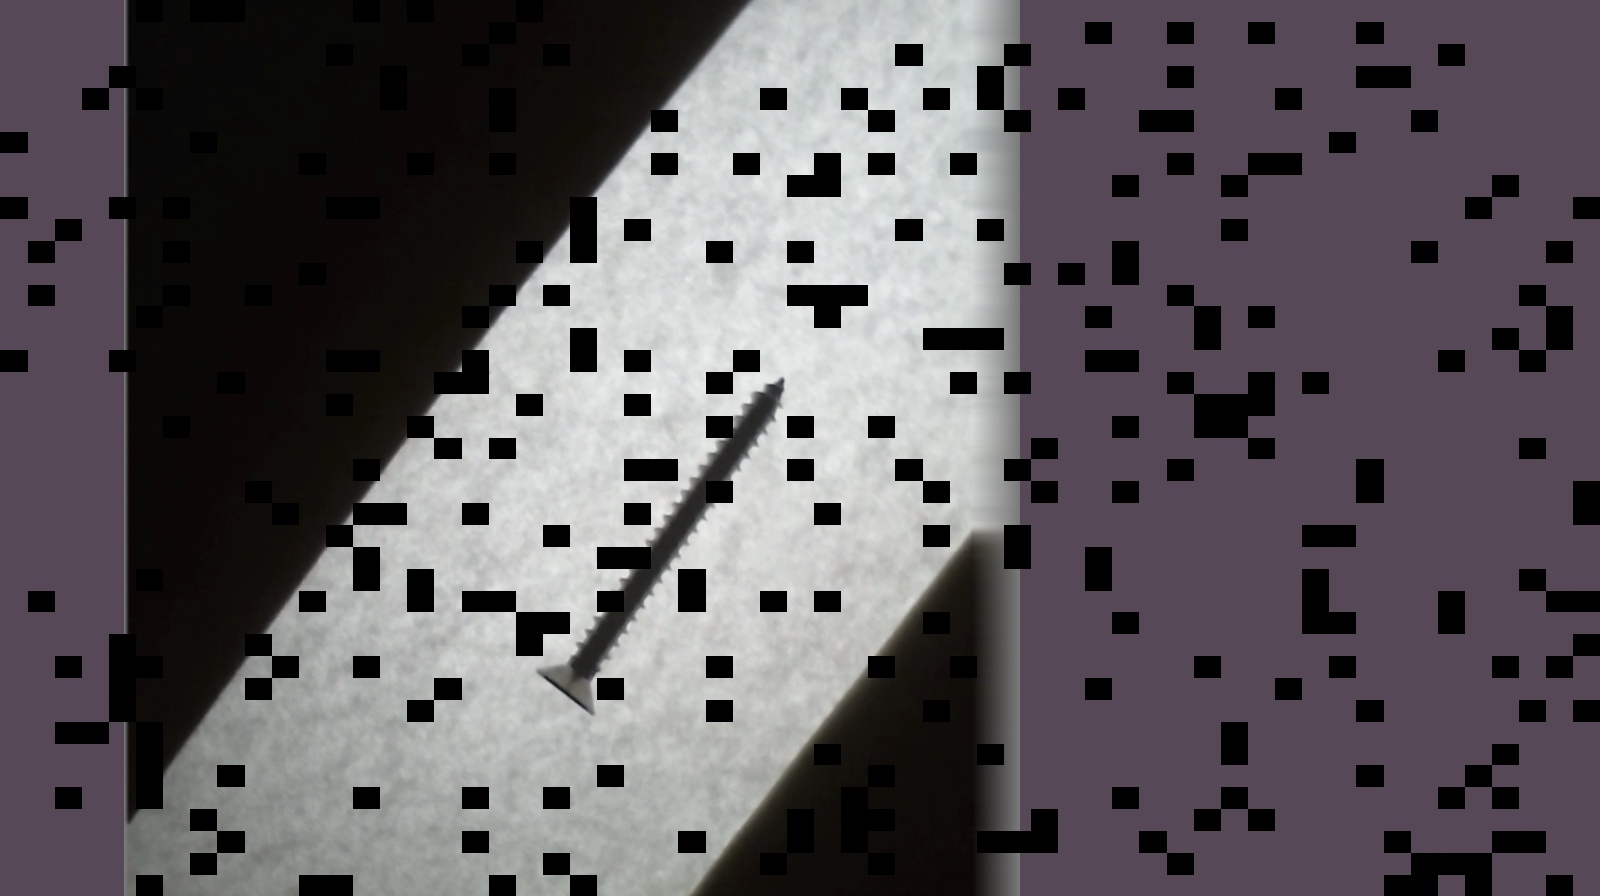S002: (532, 363, 803, 730)
